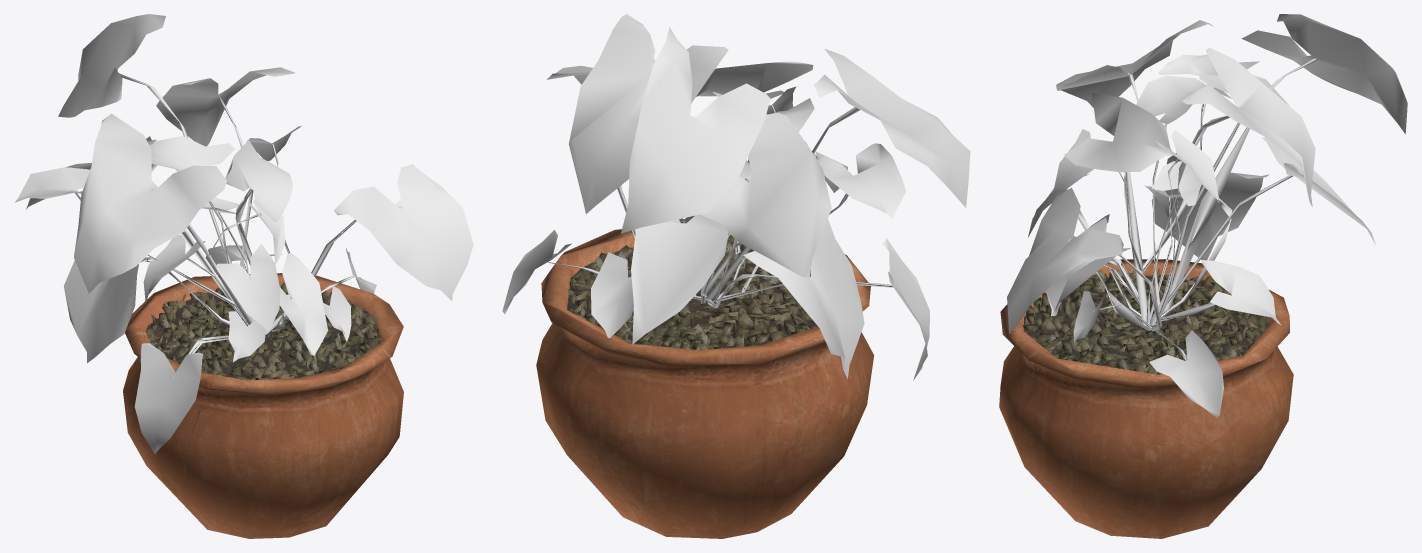
Rendered from potted_plant_02.fbx.
3 renders of one model, left to right at view 1: azimuth 30°, elevation 25°; view 2: azimuth 150°, elevation 25°; view 3: azimuth 270°, elevation 25°, orthographic. The views are drawn at different scales.
Visible parts, largest first — view 1: potted_plant_02_LOD0; view 2: potted_plant_02_LOD0; view 3: potted_plant_02_LOD0.
Boxes of the visible parts, <box> form: potted_plant_02_LOD0: <box>14,14,473,538</box>; potted_plant_02_LOD0: <box>502,14,970,538</box>; potted_plant_02_LOD0: <box>999,14,1407,538</box>.
Size of what is drawn, in the model's own units: 69.92 by 84.34 by 65.7.
Materials: 2 (1 with a texture image).
